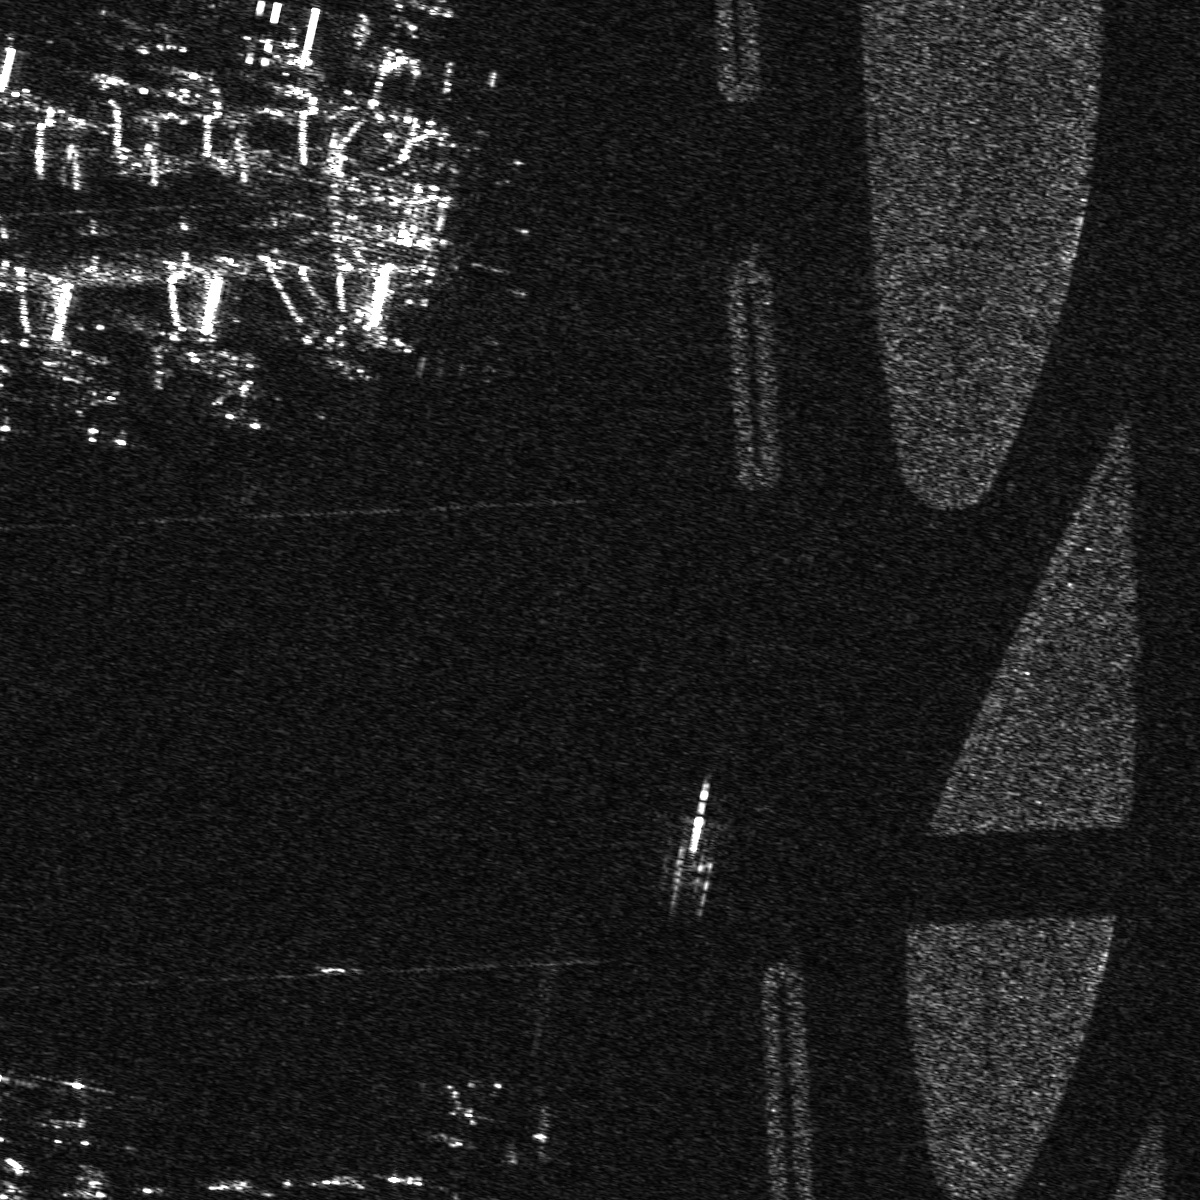A320/321: (420, 1067, 510, 1133)
Boeing787: (65, 355, 129, 445)
other: (30, 1075, 101, 1152), (209, 357, 281, 431)
